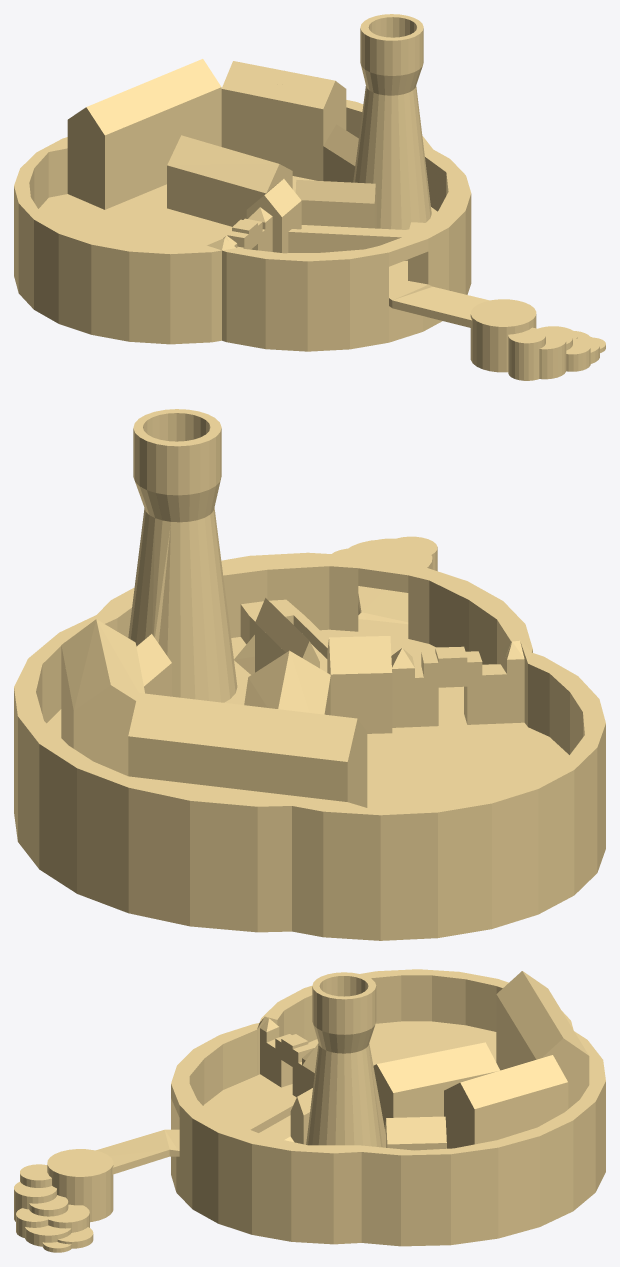
File: Sandburg2.4.fbx
3 views of the same model, one above another, from view 1: azimuth 30°, elevation 25°; view 2: azimuth 150°, elevation 25°; view 3: azimuth 270°, elevation 25° (orthographic). The views are drawn at different scales.
Parts seen in each view (by area): view 1: SketchUp; view 2: SketchUp; view 3: SketchUp.
Boxes of the visible parts, bbox=[...] form: SketchUp: bbox=[14, 14, 605, 380]; SketchUp: bbox=[14, 409, 605, 940]; SketchUp: bbox=[14, 969, 605, 1252].
Size of the model in its own units: 3940 by 2219 by 5119.
